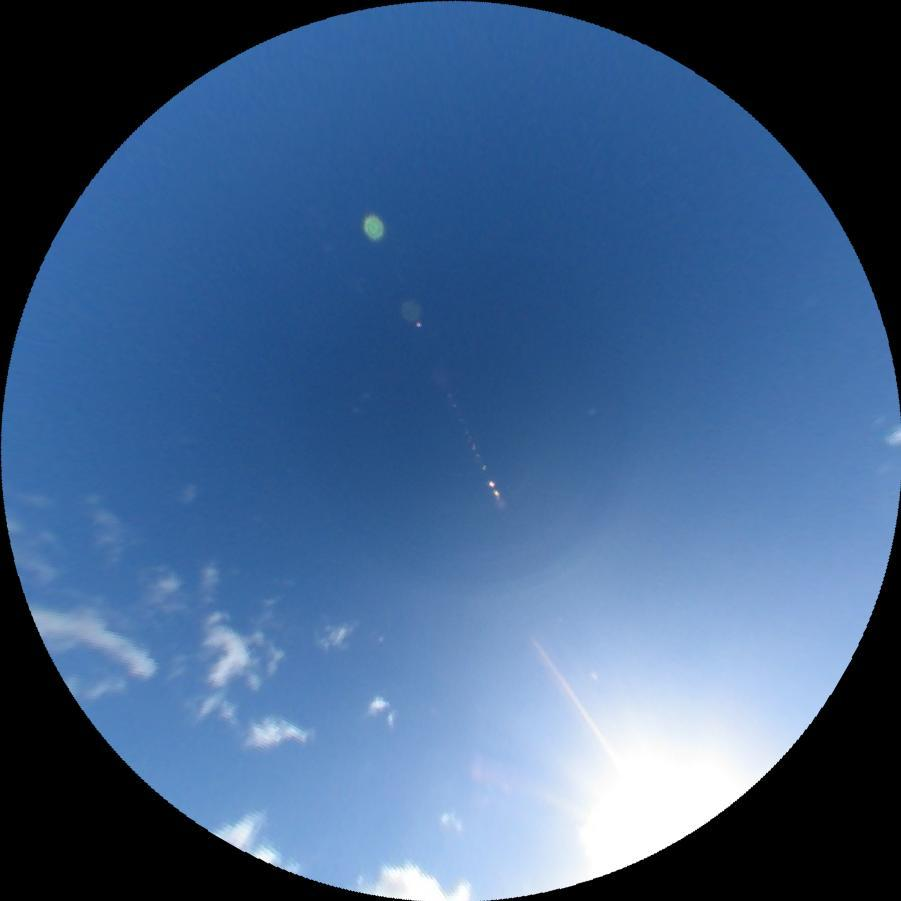parasite: (526, 632, 626, 769)
sun: (549, 706, 766, 883)
